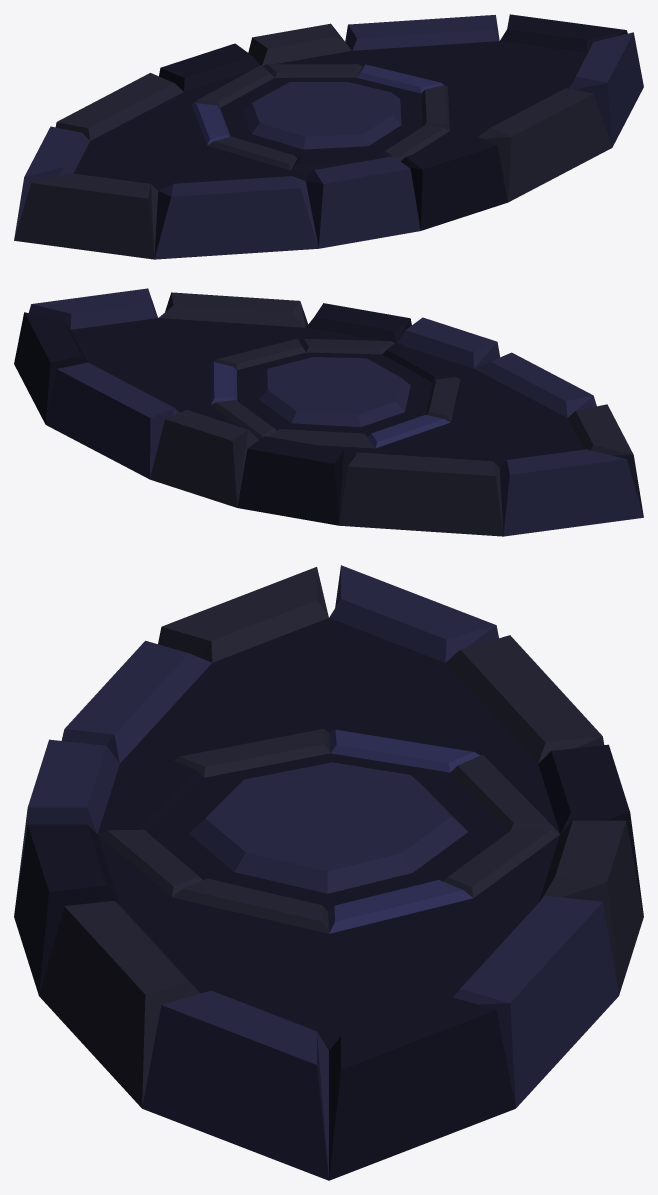
File: Eye Tile.fbx
3 views of the same model, one above another, from view 1: azimuth 30°, elevation 25°; view 2: azimuth 150°, elevation 25°; view 3: azimuth 270°, elevation 25° (orthographic). The views are drawn at different scales.
Parts seen in each view (by area): view 1: Line001; view 2: Line001; view 3: Line001.
Boxes of the visible parts, box(x1,y1,x2,y2) form: Line001: box(14, 14, 643, 259); Line001: box(14, 288, 643, 536); Line001: box(14, 565, 643, 1180).
Size of the model in its own units: 67.71 by 34.15 by 6.24.
